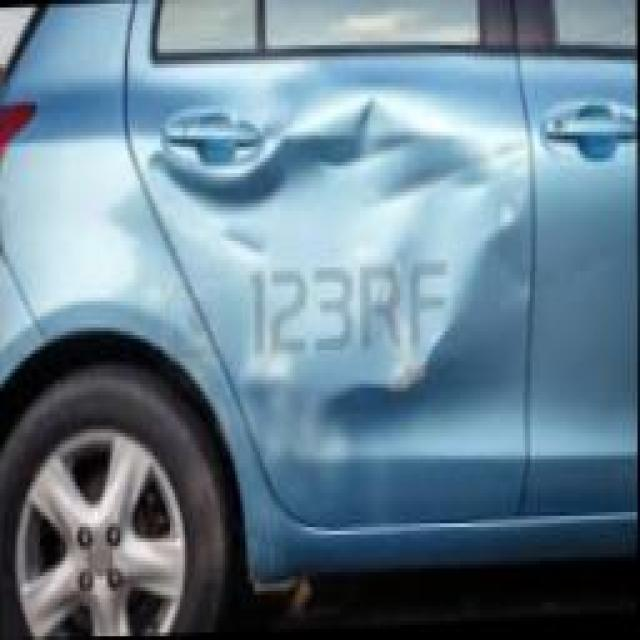rapairable: (134, 116, 531, 375)
